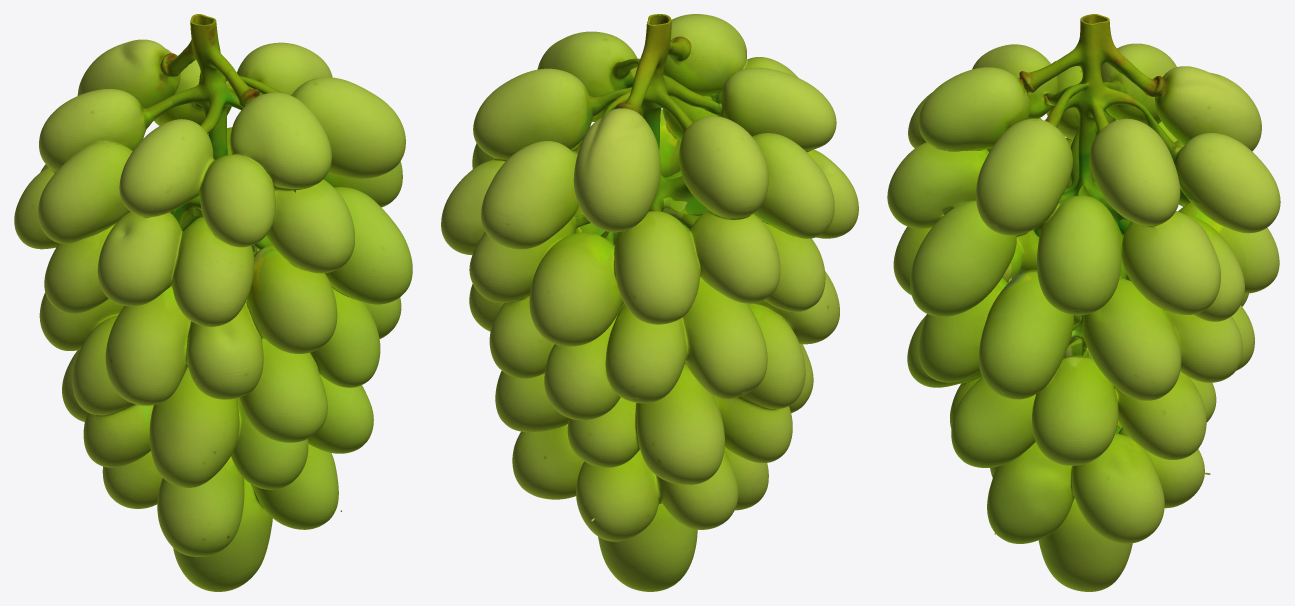
File: nagpurGrapes.glb
The picture shows the model from 3 angles, left to right: view 1: azimuth 30°, elevation 25°; view 2: azimuth 150°, elevation 25°; view 3: azimuth 270°, elevation 25°; orthographic projection. The views are drawn at different scales.
Visible parts, largest first — view 1: tripo_node_8b89579a-e7b9-4ee1-92ce-c978ddafdf99; view 2: tripo_node_8b89579a-e7b9-4ee1-92ce-c978ddafdf99; view 3: tripo_node_8b89579a-e7b9-4ee1-92ce-c978ddafdf99.
Boxes of the visible parts, box(x1,y1,x2,y2) form: tripo_node_8b89579a-e7b9-4ee1-92ce-c978ddafdf99: box(14, 14, 412, 591); tripo_node_8b89579a-e7b9-4ee1-92ce-c978ddafdf99: box(441, 14, 858, 591); tripo_node_8b89579a-e7b9-4ee1-92ce-c978ddafdf99: box(887, 14, 1280, 591).
Bounding box in the file's own units: 0.6505 × 1 × 0.6344.
1 material, 1 textured.
